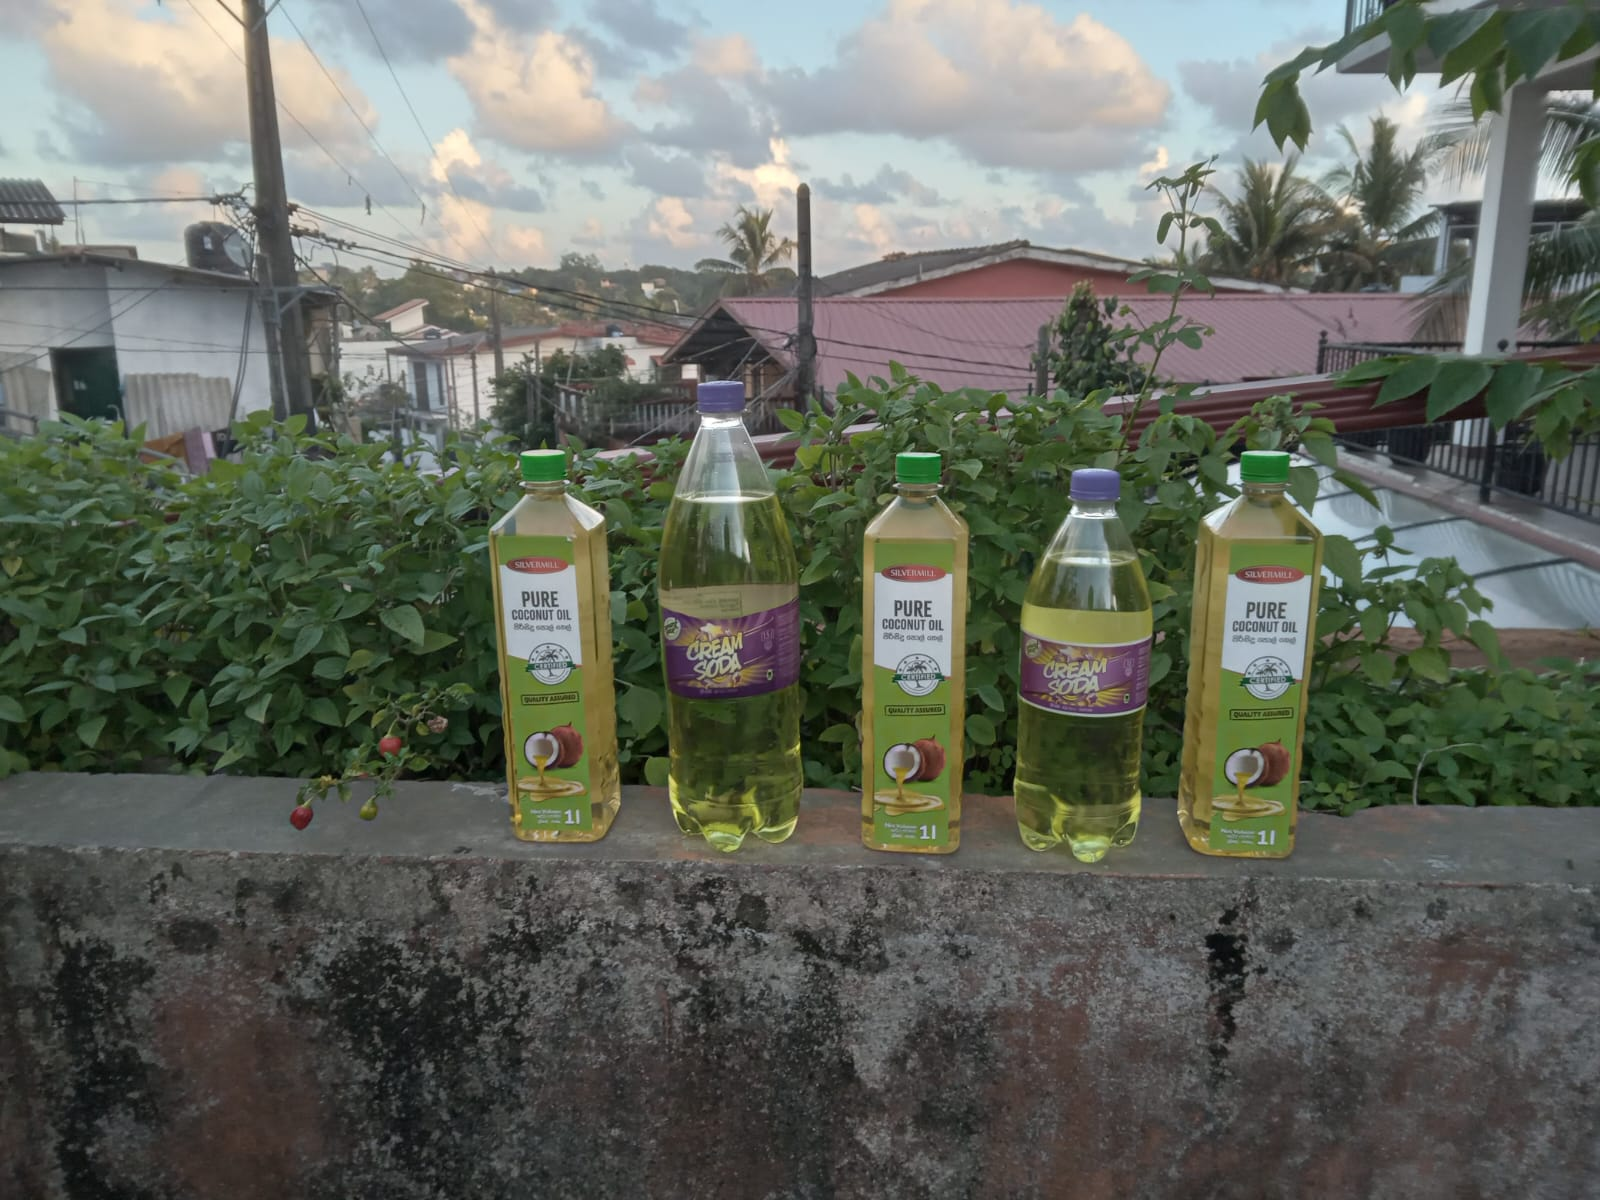L: (658, 376, 809, 850)
M: (1014, 469, 1159, 863)
